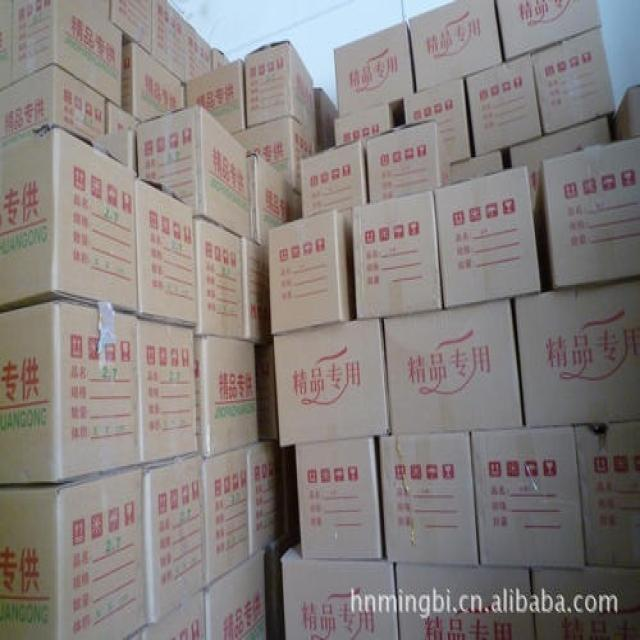box: (0, 125, 140, 316), (0, 299, 140, 485), (0, 464, 147, 640), (383, 297, 524, 435), (513, 276, 640, 427), (471, 425, 586, 570), (535, 137, 640, 290), (433, 166, 540, 311), (273, 317, 390, 449), (137, 104, 251, 237), (380, 430, 481, 567), (280, 534, 399, 640), (13, 0, 124, 109), (352, 191, 443, 321), (509, 116, 616, 222), (293, 439, 384, 560), (142, 451, 205, 625), (393, 565, 535, 640), (268, 215, 355, 335), (573, 420, 640, 567), (136, 174, 198, 329), (0, 65, 108, 152), (230, 118, 317, 225), (530, 26, 617, 133), (137, 316, 198, 463), (408, 0, 503, 90), (333, 20, 415, 123), (531, 563, 640, 640), (467, 53, 543, 159), (196, 335, 260, 457), (243, 41, 316, 142), (366, 121, 452, 205), (298, 145, 369, 241), (495, 0, 603, 63), (204, 447, 250, 589), (403, 77, 472, 166), (195, 215, 244, 340), (205, 548, 266, 640), (120, 41, 186, 123), (186, 58, 247, 135), (246, 440, 285, 558), (264, 526, 298, 640), (247, 157, 288, 247), (141, 589, 206, 640), (151, 0, 187, 84), (243, 239, 271, 346), (334, 104, 398, 150), (105, 101, 141, 174), (109, 0, 152, 56), (256, 343, 279, 439), (184, 22, 214, 84), (447, 152, 503, 183), (611, 84, 640, 143), (315, 89, 338, 154), (63, 0, 111, 22), (212, 46, 229, 72), (123, 626, 146, 640)
